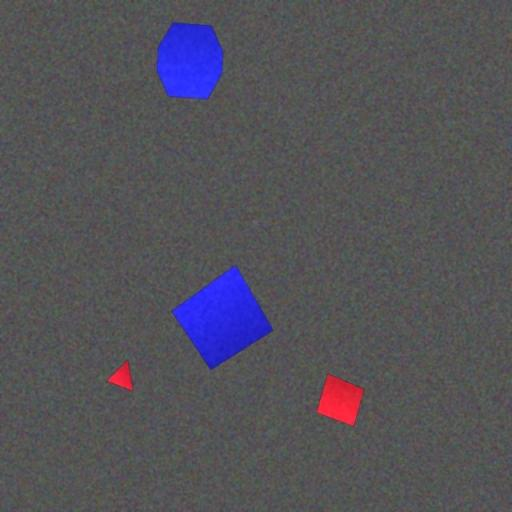BLUE_SQUARE: (172, 265, 274, 370)
RED_SQUARE: (316, 373, 365, 427)
